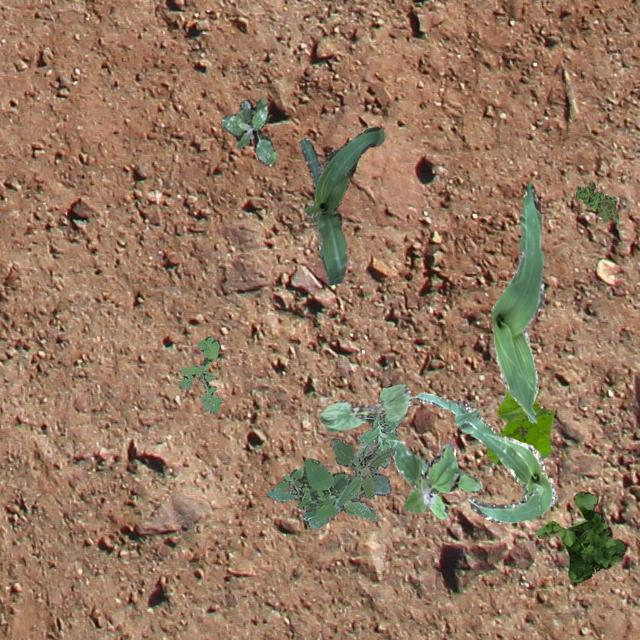crop: (410, 390, 556, 522), (297, 125, 383, 284), (489, 182, 544, 422), (318, 382, 411, 430)
weed: (534, 490, 626, 584), (266, 456, 378, 528), (386, 438, 482, 518), (484, 388, 552, 464), (329, 436, 393, 506), (220, 96, 276, 164), (178, 336, 220, 412), (354, 414, 400, 466), (574, 182, 618, 222)
